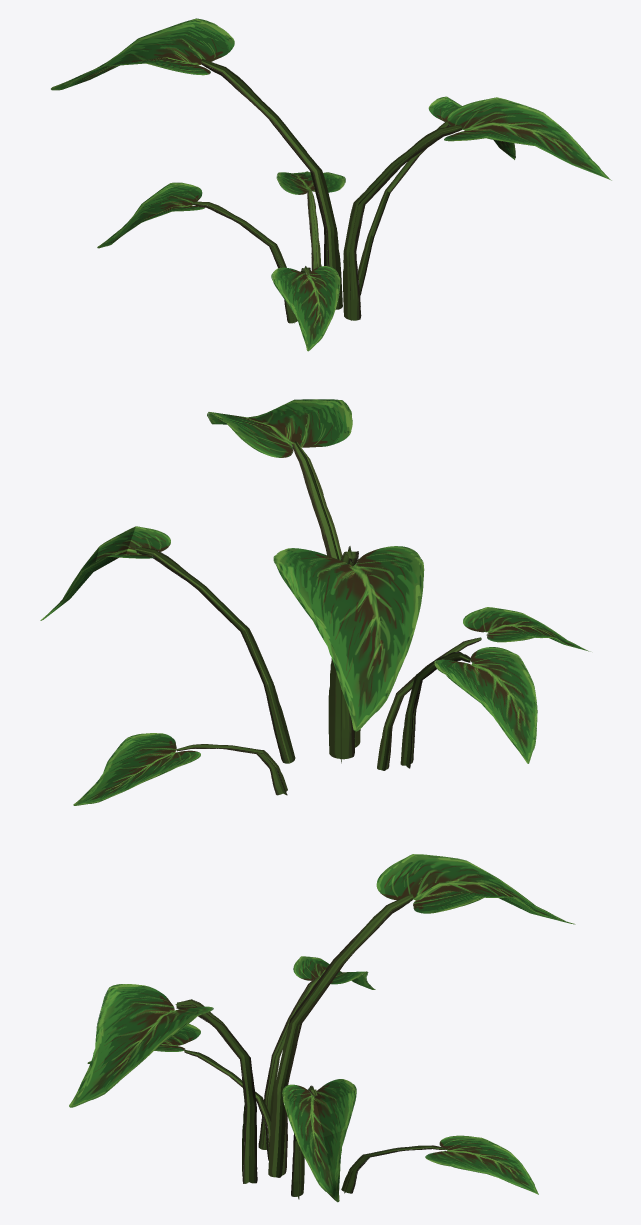
The model's file is plant1.fbx.
The picture shows the model from 3 angles, top to bottom: view 1: azimuth 30°, elevation 25°; view 2: azimuth 150°, elevation 25°; view 3: azimuth 270°, elevation 25°; orthographic projection. The views are drawn at different scales.
Parts seen in each view (by area): view 1: Plane.025; view 2: Plane.025; view 3: Plane.025.
Boxes of the visible parts, x1,y1,x2,y2 form: Plane.025: (51,18,611,351); Plane.025: (40,399,590,805); Plane.025: (69,854,575,1202).
Size of the model in its own units: 360 by 193 by 402.
